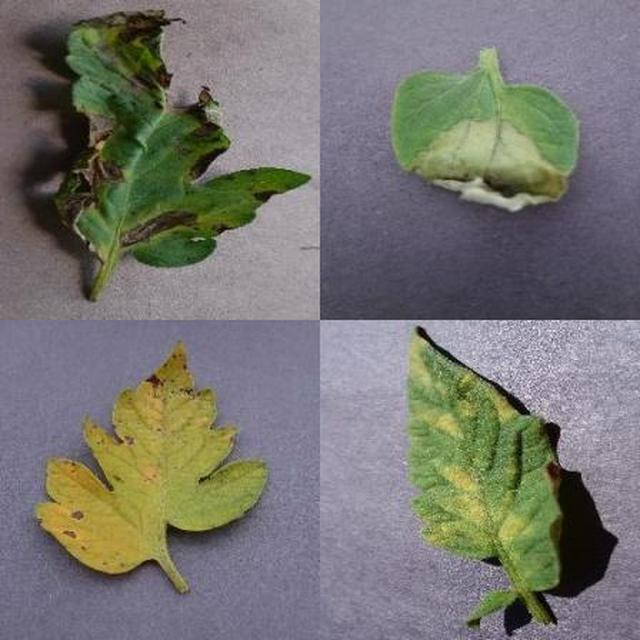Early Blight Leaf: (219, 200, 640, 640)
